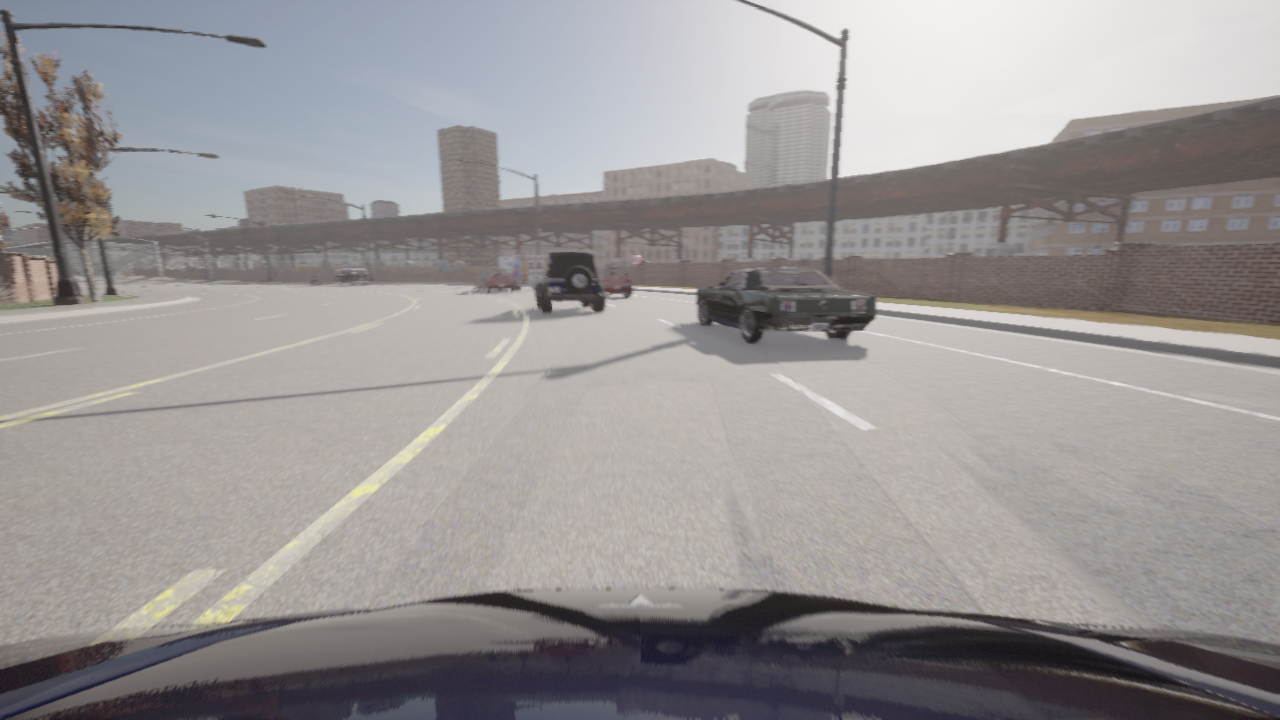cyclist: (0, 588, 1279, 719), (696, 267, 875, 342), (535, 250, 604, 313), (498, 255, 547, 290), (598, 267, 631, 297), (474, 269, 513, 293), (334, 268, 368, 285), (309, 276, 321, 286)
